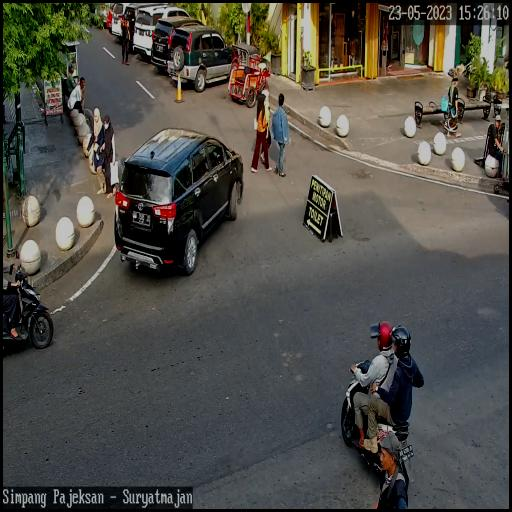mobil: (112, 126, 247, 273), (168, 22, 237, 90), (134, 4, 195, 66), (153, 11, 206, 79)
motor: (342, 348, 411, 484), (0, 268, 54, 358)
